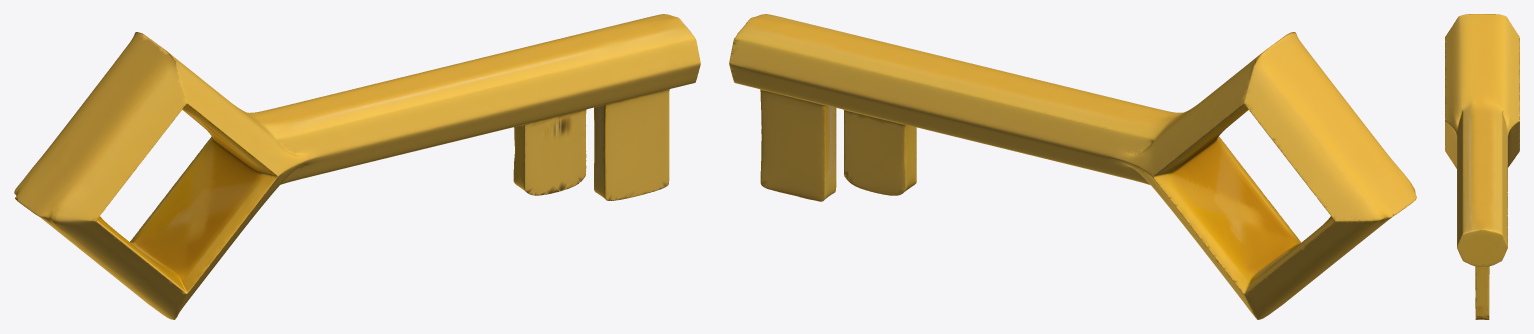
Rendered from Meshy_AI_Geometric_Key_0202144816_texture.obj.
3 views of the same model, side by side, from view 1: azimuth 30°, elevation 25°; view 2: azimuth 150°, elevation 25°; view 3: azimuth 270°, elevation 25° (orthographic). The views are drawn at different scales.
Visible parts, largest first — view 1: Meshy_AI_Geometric_Key_0202144816_texture; view 2: Meshy_AI_Geometric_Key_0202144816_texture; view 3: Meshy_AI_Geometric_Key_0202144816_texture.
Boxes of the visible parts, x1,y1,x2,y2 form: Meshy_AI_Geometric_Key_0202144816_texture: [14, 14, 700, 319]; Meshy_AI_Geometric_Key_0202144816_texture: [729, 14, 1416, 319]; Meshy_AI_Geometric_Key_0202144816_texture: [1445, 14, 1519, 319].
Size of the model in its own units: 2 by 0.7799 by 0.3307.
Materials: 1 (1 with a texture image).
